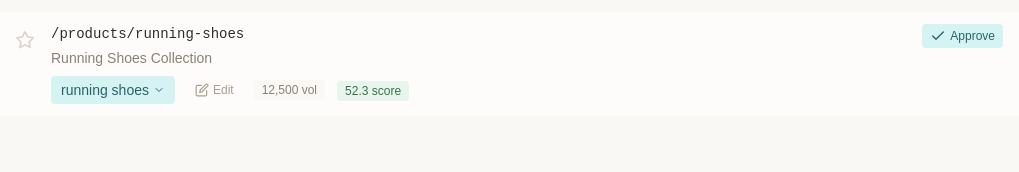
Scenario: KeywordPageRow › score tooltip › shows weight breakdown in tooltip
The image size is (1019, 172).
Hover over the text "52.3 score": (373, 91) [337, 81, 409, 101]
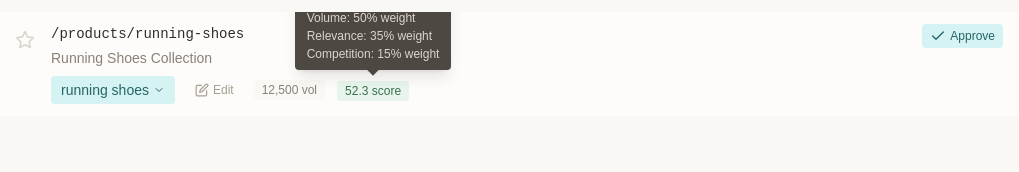
Expected: the text "Volume: 50% weight" is shown, [307, 11, 415, 25]
Expected: the text "Relevance: 35% weight" is shown, [307, 28, 440, 44]
Expected: the text "Competition: 15% weight" is shown, [307, 46, 440, 62]
